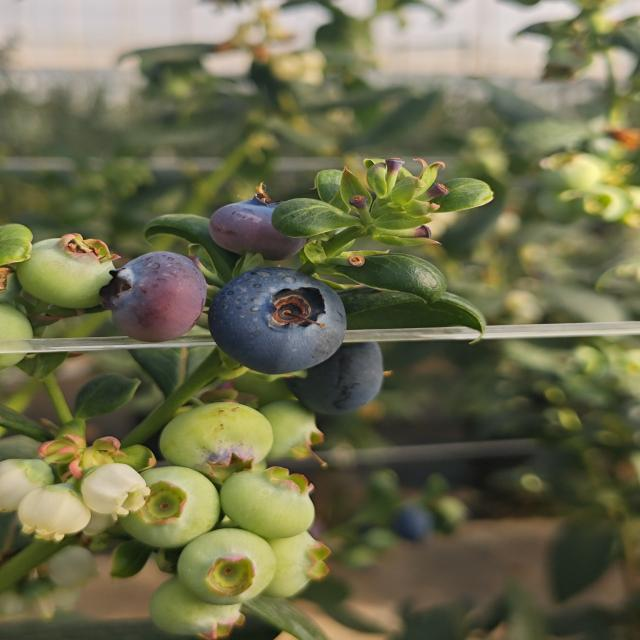ripe: (207, 265, 349, 376), (99, 250, 210, 344), (284, 340, 386, 417), (206, 190, 310, 263), (384, 497, 438, 542)
